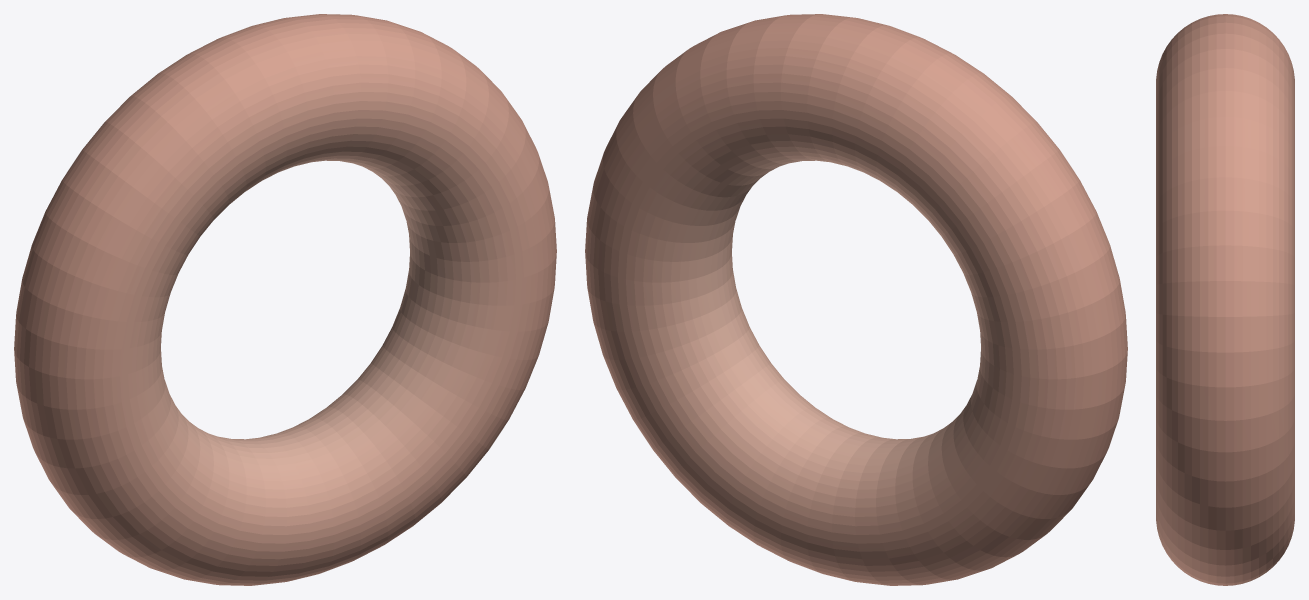
3 renders of one model, left to right at view 1: azimuth 30°, elevation 25°; view 2: azimuth 150°, elevation 25°; view 3: azimuth 270°, elevation 25°, orthographic. The views are drawn at different scales.
Parts seen in each view (by area): view 1: world; view 2: world; view 3: world.
Part boxes in pixels (left/top/right/bottom): world: left=14, top=14, right=556, bottom=585; world: left=585, top=14, right=1127, bottom=585; world: left=1156, top=14, right=1294, bottom=585.
Size of the model in its own units: 29.07 by 29.01 by 7.05.
